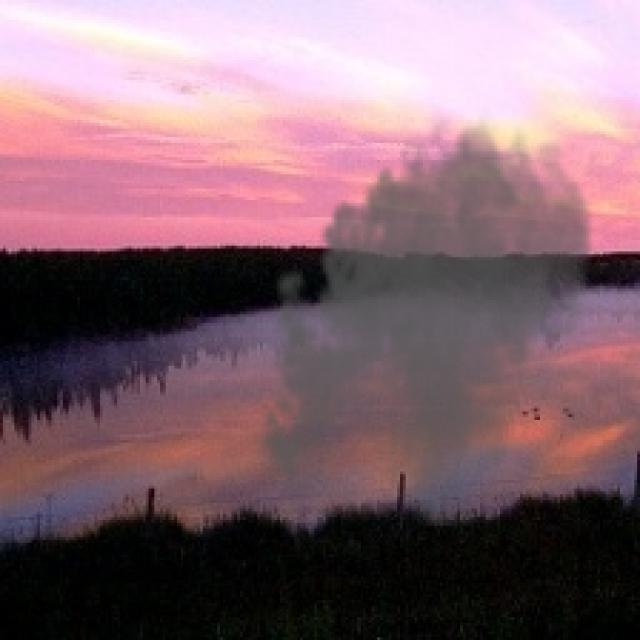Smoke: (251, 106, 600, 526)
